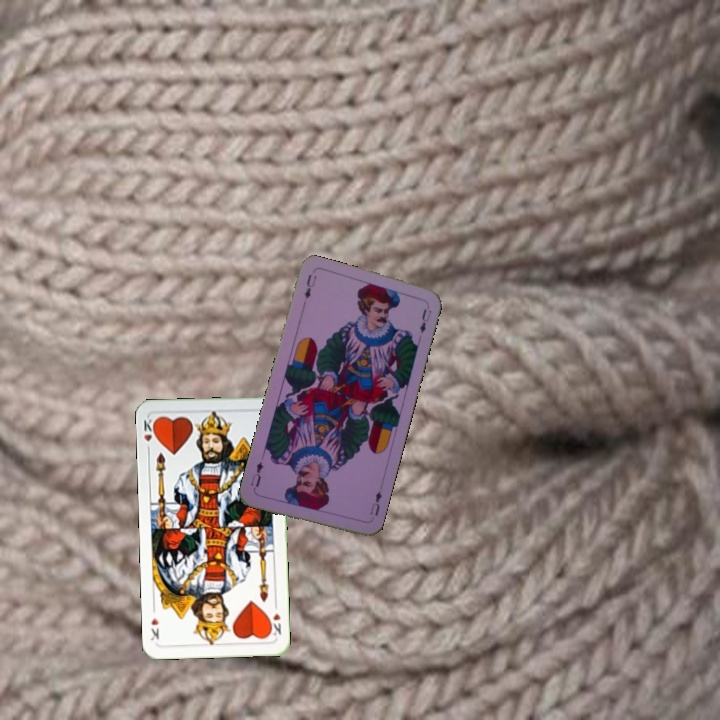EU: (300, 270, 319, 302), (366, 487, 384, 518)
HK: (139, 414, 159, 455), (265, 599, 283, 638)
